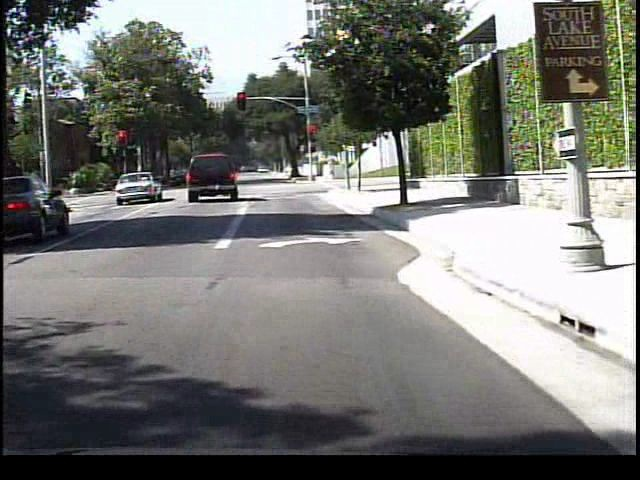person: (324, 154, 339, 182)
